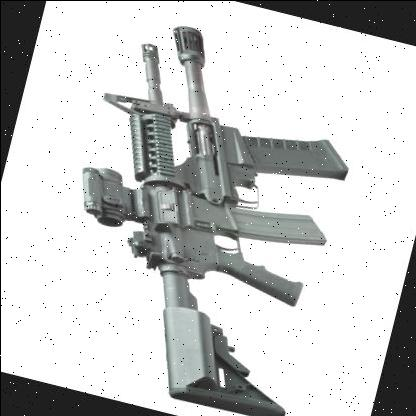rifle: (6, 7, 398, 416)
